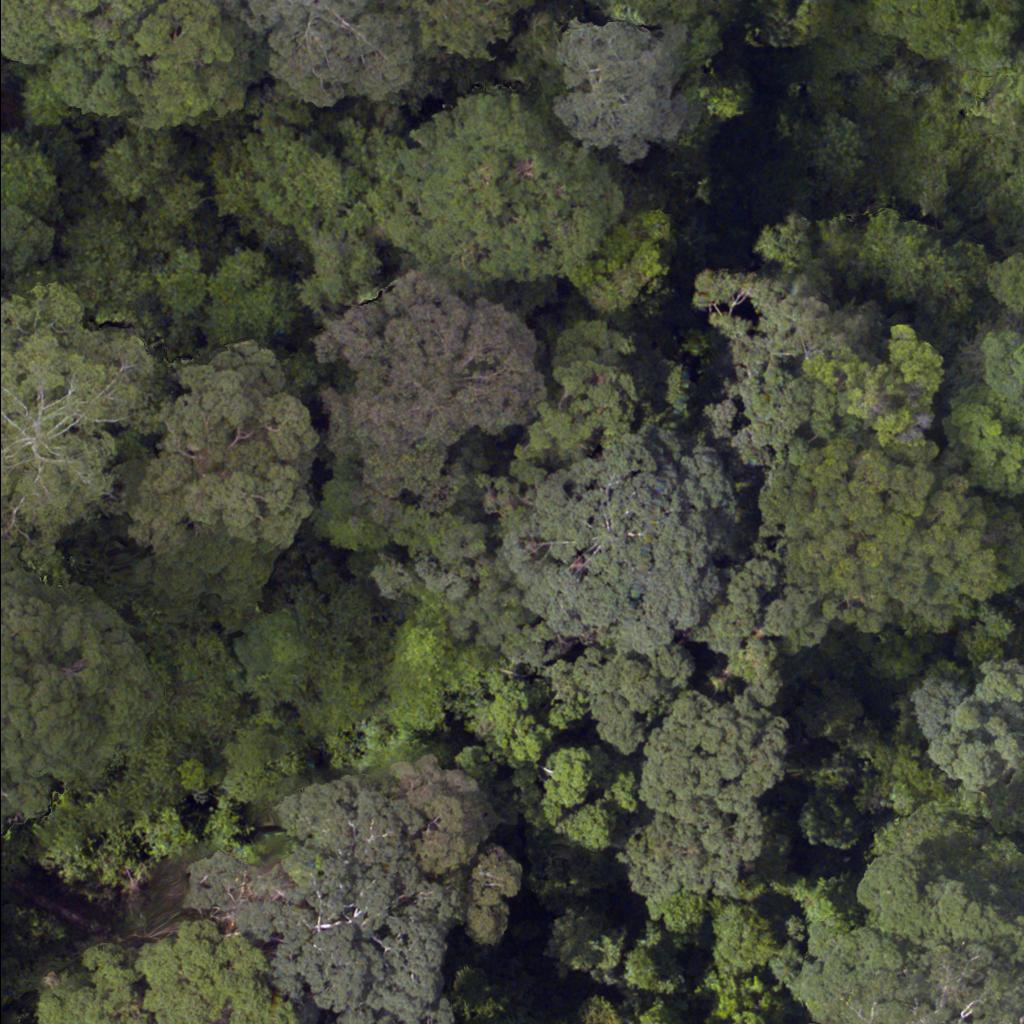crown: (193, 780, 481, 1023), (491, 422, 756, 658), (772, 422, 1023, 635), (319, 281, 540, 510), (386, 96, 613, 285), (120, 343, 317, 549), (0, 298, 152, 548), (753, 901, 1023, 1023), (853, 800, 1023, 960), (42, 930, 293, 1023), (207, 114, 369, 245), (231, 0, 411, 100), (910, 642, 1023, 798), (560, 22, 683, 152), (378, 0, 552, 70), (201, 251, 310, 347), (573, 214, 667, 307), (968, 293, 1023, 421), (106, 133, 172, 197), (469, 852, 516, 939), (0, 138, 58, 204), (751, 0, 828, 42), (0, 210, 51, 269), (603, 0, 732, 23)
